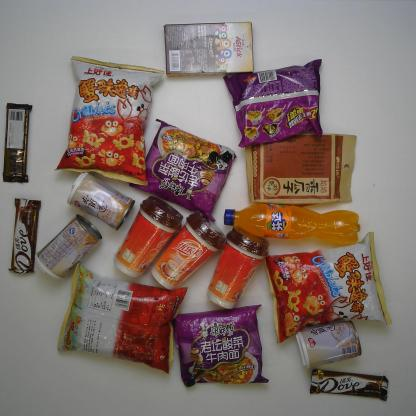Canned Food: (32, 212, 104, 284), (64, 169, 136, 233), (293, 317, 363, 372)
Chocolate: (306, 368, 393, 405), (7, 196, 42, 277), (2, 100, 34, 186)
Dessert: (159, 18, 258, 80)
Dried Food: (241, 124, 361, 212)
Drink: (222, 201, 364, 248)
Instant Drink: (149, 206, 229, 294), (111, 194, 185, 280), (205, 223, 272, 312)
Instant Noodles: (127, 116, 238, 226), (222, 57, 328, 150), (169, 302, 272, 390)
Puffed Food: (54, 258, 190, 378), (52, 51, 166, 190), (262, 229, 394, 346)
